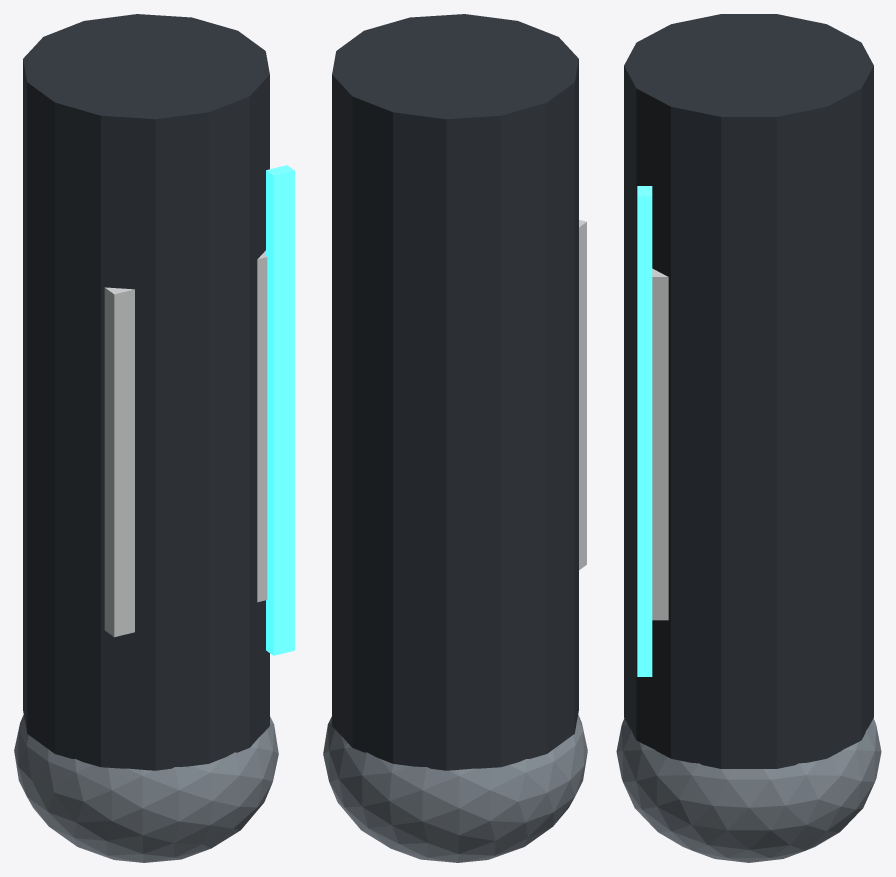
Rendered from full_cyber_leg.glb.
The picture shows the model from 3 angles, left to right: view 1: azimuth 30°, elevation 25°; view 2: azimuth 150°, elevation 25°; view 3: azimuth 270°, elevation 25°; orthographic projection.
Parts seen in each view (by area): view 1: part_001, part_000, part_003, part_004; view 2: part_001, part_000, part_003; view 3: part_001, part_000, part_004, part_003.
Part boxes in pixels (left/top/right/bottom): part_001: left=23, top=14, right=269, bottom=770; part_000: left=14, top=714, right=278, bottom=862; part_003: left=104, top=250, right=267, bottom=637; part_004: left=266, top=165, right=294, bottom=655; part_001: left=332, top=14, right=578, bottom=770; part_000: left=323, top=714, right=587, bottom=862; part_003: left=579, top=220, right=586, bottom=570; part_001: left=624, top=14, right=873, bottom=768; part_000: left=616, top=718, right=881, bottom=862; part_004: left=637, top=186, right=652, bottom=676; part_003: left=652, top=268, right=668, bottom=620.
Size of the model in its own units: 0.14 by 0.456 by 0.14.
